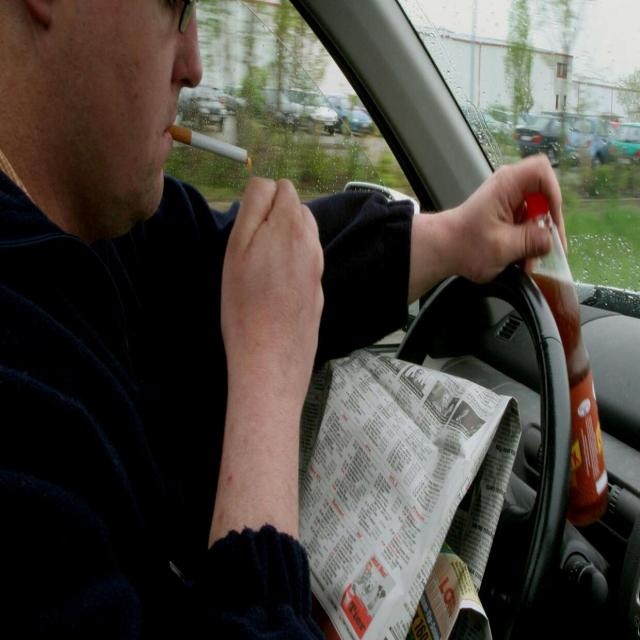Seatbelt: (509, 179, 617, 535)
